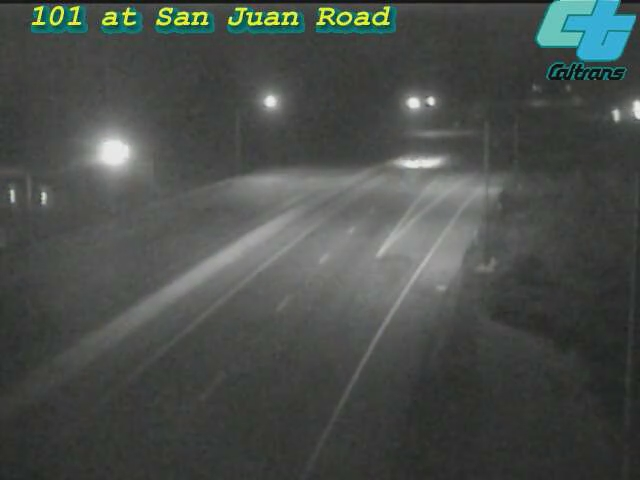vehicle: (384, 123, 464, 203), (590, 91, 640, 141), (611, 83, 640, 133)
